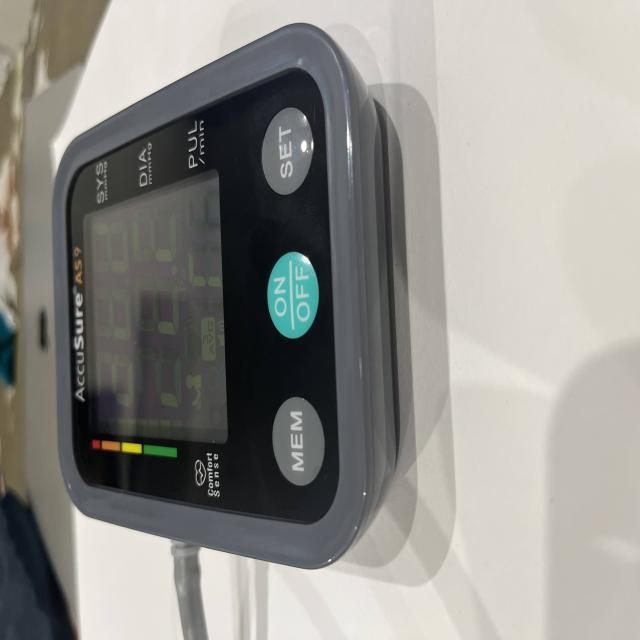bp: (17, 22, 443, 588)
